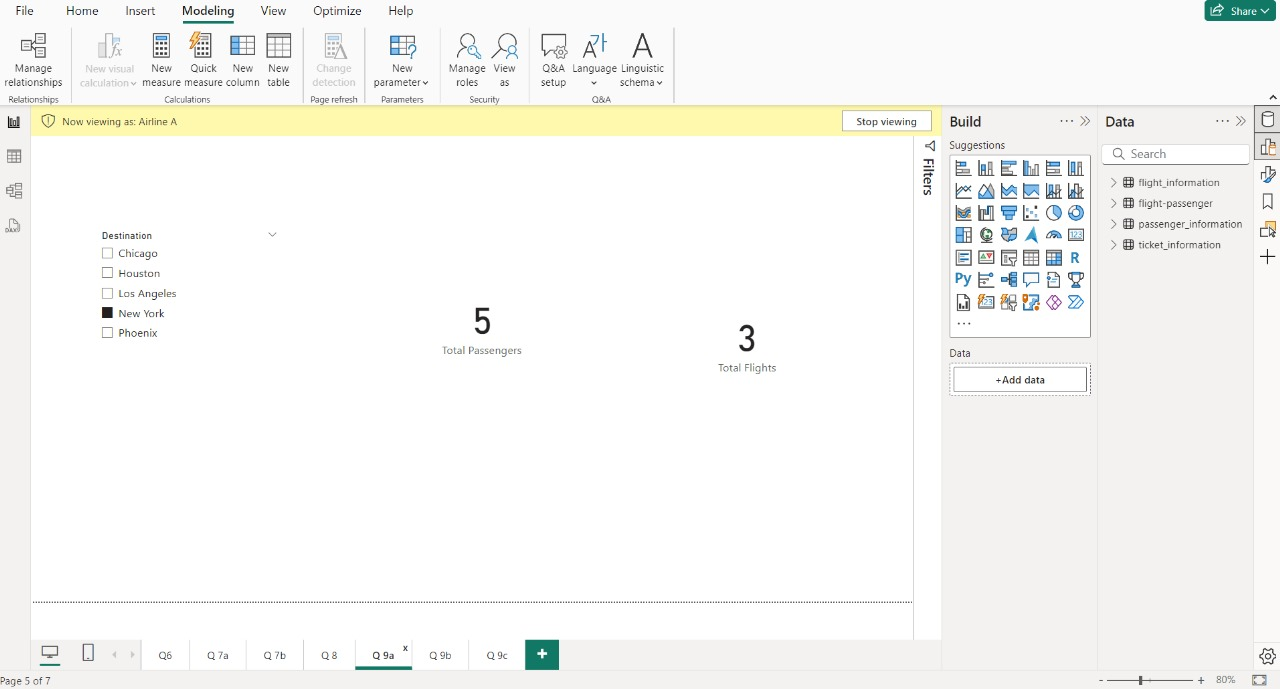

The page's visual inventory and layout, read from the dashboard file:
{"tool":"powerbi","page":{"name":"Q 9a","canvas":[1280,720],"ordinal":4},"visuals":[{"type":"slicer","fields":{"Values":["flight_information.Destination"]},"box":[89.5,176,279.2,280.8],"z":0},{"type":"card","fields":{"Values":["passenger_information.Total Passengers"]},"box":[514.5,176,279.2,280.8],"z":1000},{"type":"card","fields":{"Values":["passenger_information.Total Flights"]},"box":[893.9,227.6,291.4,229.2],"z":2000}]}

Visuals, with their boxes on the page's 1280x720 design canvas (x1, y1, x2, y2). These are canvas units, not pixel positions in the 1280x689 screenshot, which may show the page scaled, cropped or inside an application window:
slicer - flight_information.Destination: bbox(90, 176, 369, 457)
card - passenger_information.Total Passengers: bbox(514, 176, 794, 457)
card - passenger_information.Total Flights: bbox(894, 228, 1185, 457)
